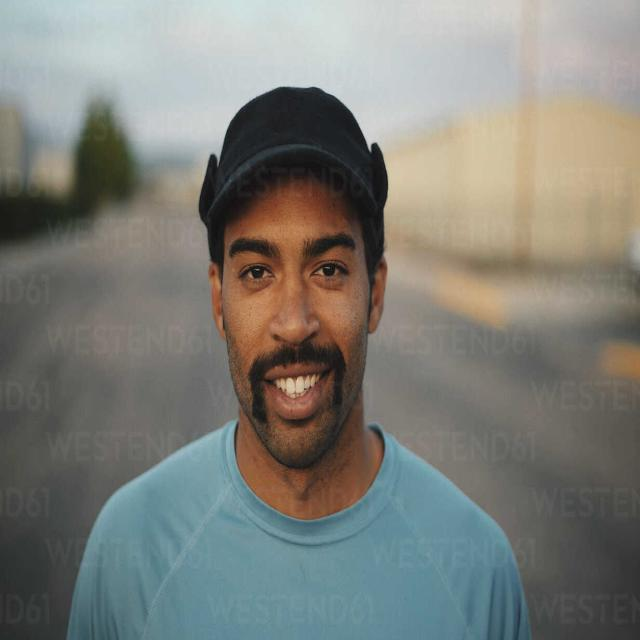3_gorra: (198, 84, 389, 241)
